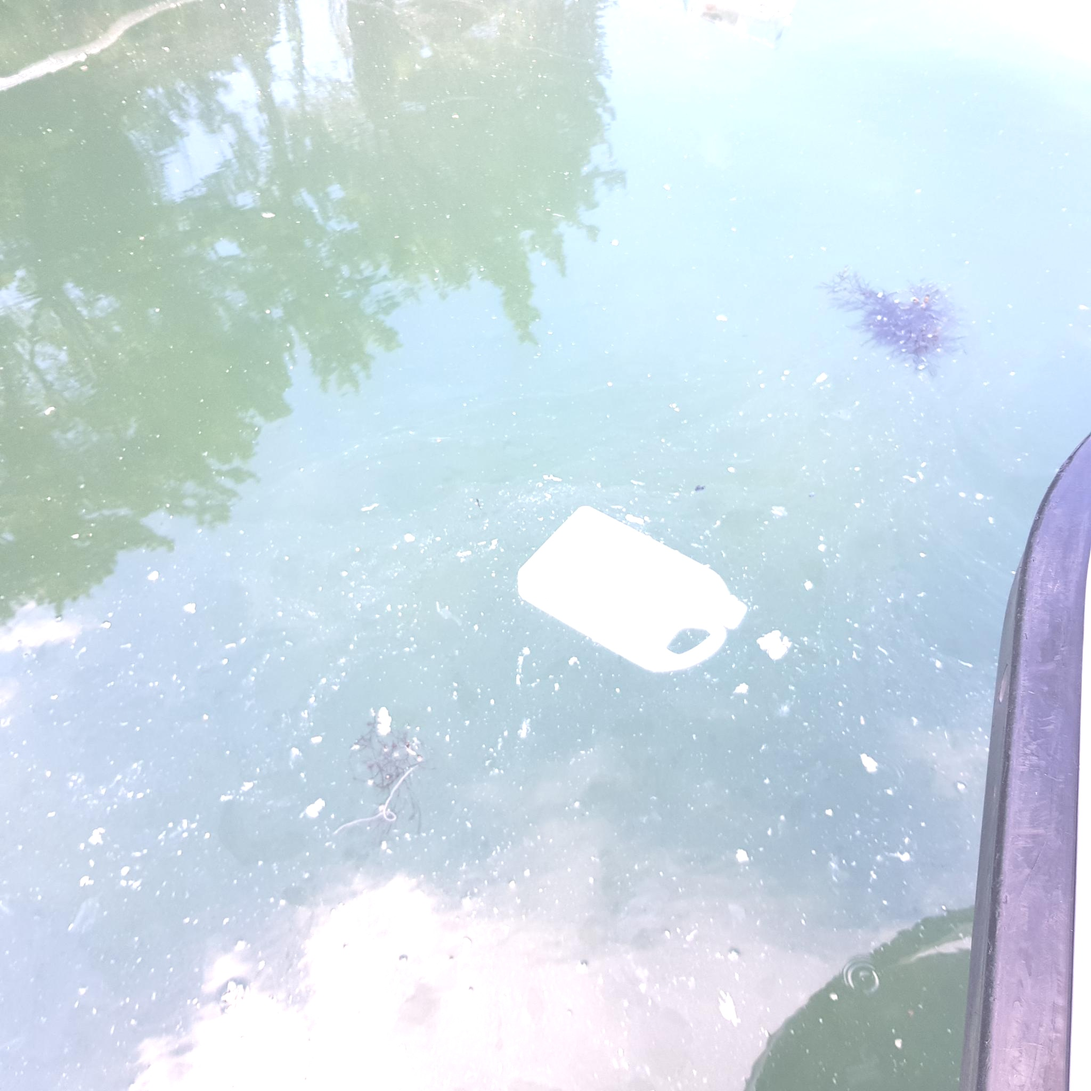sampah_terapung: (518, 507, 747, 673), (699, 1, 795, 18)
